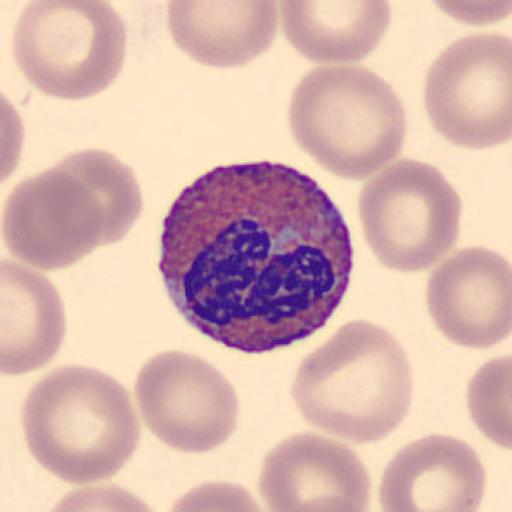RBC: (289, 316, 416, 446), (20, 362, 142, 486), (286, 62, 409, 182), (356, 156, 463, 274), (10, 1, 128, 102), (132, 348, 242, 455), (422, 30, 512, 151), (2, 167, 105, 272), (257, 430, 373, 512), (424, 244, 512, 350), (53, 146, 145, 246), (377, 431, 488, 512), (2, 258, 68, 378), (166, 1, 280, 70), (278, 0, 392, 65), (466, 352, 512, 452), (42, 482, 164, 512), (166, 478, 270, 512), (1, 90, 25, 190), (428, 0, 512, 27), (289, 493, 368, 512)
WBC: (158, 158, 354, 354)
